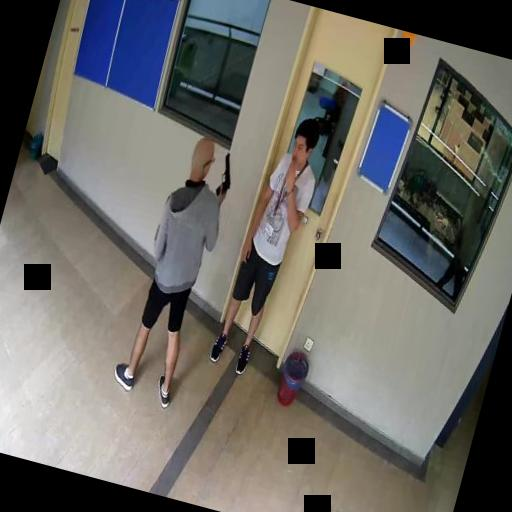Handgun: (212, 149, 238, 196)
